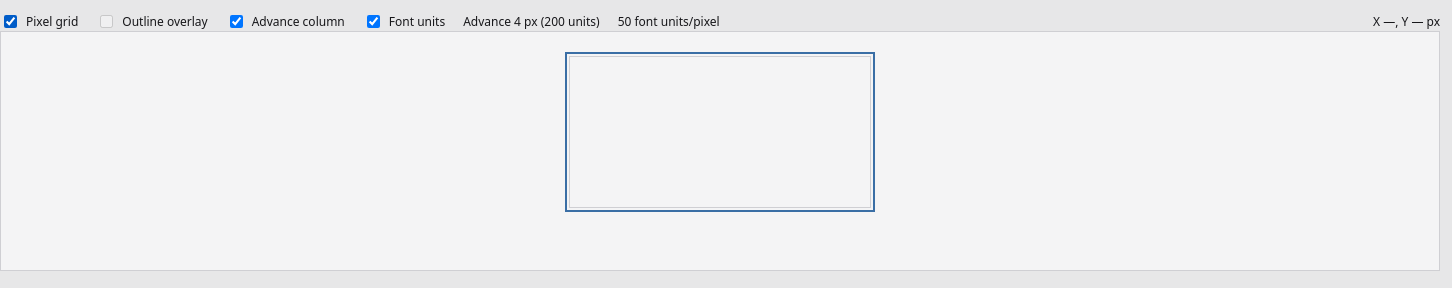
Test case: overlay switches and the font-unit readout › reports the pointer and the drag delta in pixels and font units
Press the mouse on the drawing named "Bitmap pixel canvas" at (720, 132), box [569,56,871,208]
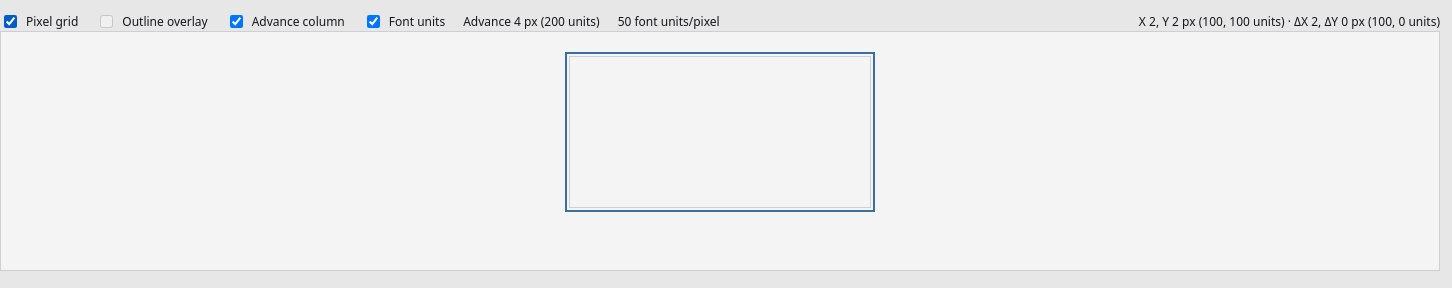
Now the text named "Bitmap pointer coordinates" shows "X 2, Y 2 px", box [1139,13,1196,30]
Now the text named "Bitmap pointer coordinates" shows "(100, 100 units)", box [1199,13,1285,30]
Now the text named "Bitmap pointer coordinates" shows "ΔX 2, ΔY 0 px", box [1294,13,1365,30]
